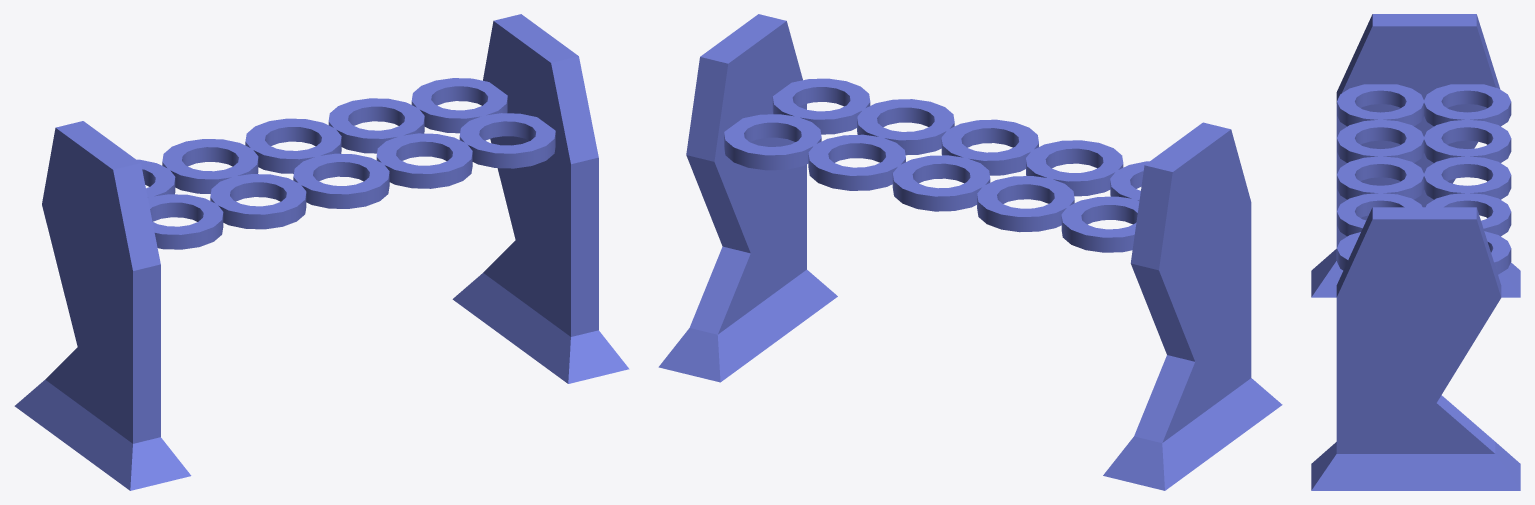
Rendered from tubes_stand.glb.
The picture shows the model from 3 angles, left to right: view 1: azimuth 30°, elevation 25°; view 2: azimuth 150°, elevation 25°; view 3: azimuth 270°, elevation 25°; orthographic projection. The views are drawn at different scales.
Visible parts, largest first — view 1: TubesStand; view 2: TubesStand; view 3: TubesStand.
Part boxes in pixels (bbox=[...]): TubesStand: bbox=[14, 14, 629, 490]; TubesStand: bbox=[658, 14, 1282, 490]; TubesStand: bbox=[1311, 14, 1520, 490].
Bounding box in the file's own units: 0.9344 × 0.5226 × 0.3757.
